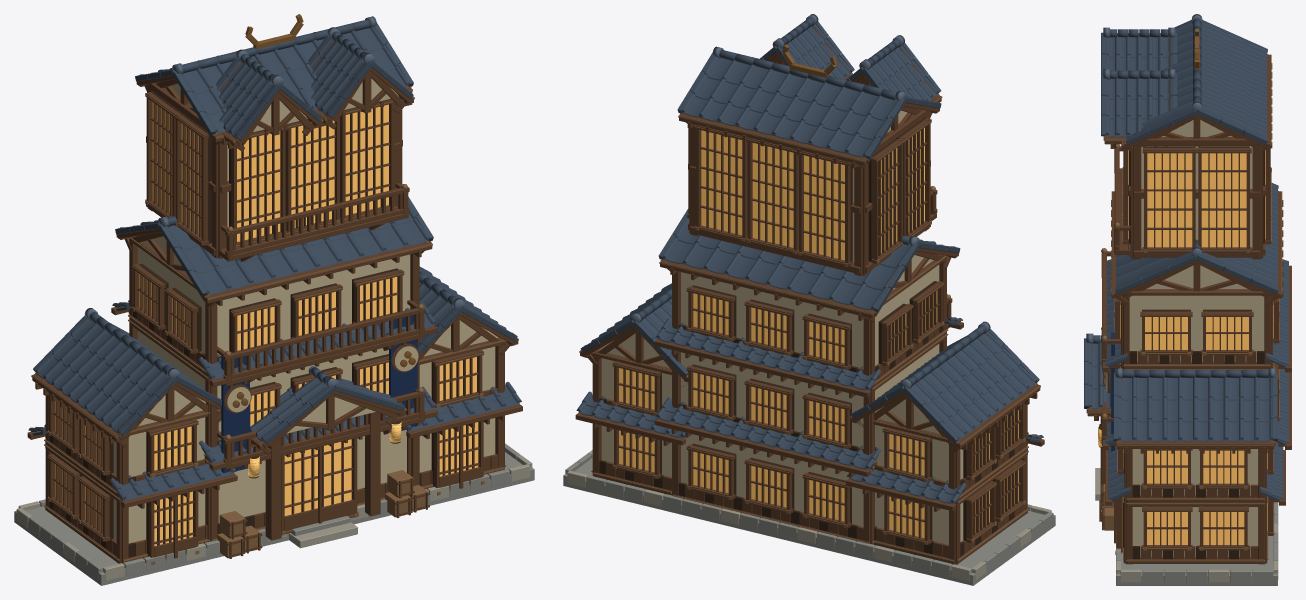
3 renders of one model, left to right at view 1: azimuth 30°, elevation 25°; view 2: azimuth 150°, elevation 25°; view 3: azimuth 270°, elevation 25°, orthographic. The views are drawn at different scales.
Parts seen in each view (by area): view 1: compact_finance_3_geometry, compact_finance_3_geometry ceramic; view 2: compact_finance_3_geometry, compact_finance_3_geometry ceramic; view 3: compact_finance_3_geometry, compact_finance_3_geometry ceramic.
Part boxes in pixels (<box>): compact_finance_3_geometry: <box>14,14,534,585</box>; compact_finance_3_geometry ceramic: <box>28,16,521,500</box>; compact_finance_3_geometry: <box>563,26,1055,585</box>; compact_finance_3_geometry ceramic: <box>576,14,1043,504</box>; compact_finance_3_geometry: <box>1086,29,1291,585</box>; compact_finance_3_geometry ceramic: <box>1084,14,1288,501</box>.
Size of the model in its own units: 2.29 by 2.42 by 1.02.
